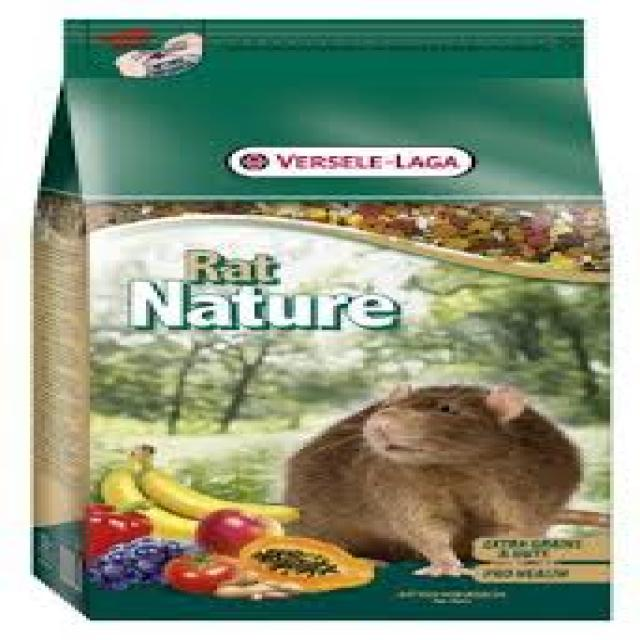rat: (277, 380, 584, 575)
